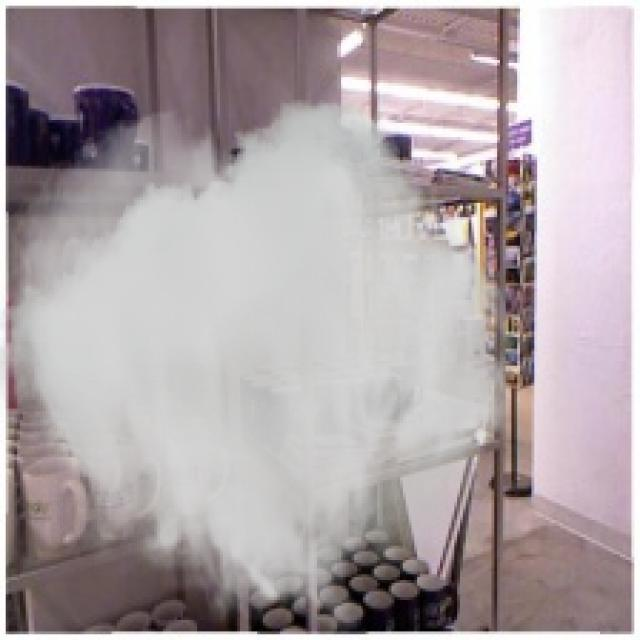smoke: (0, 100, 520, 637)
